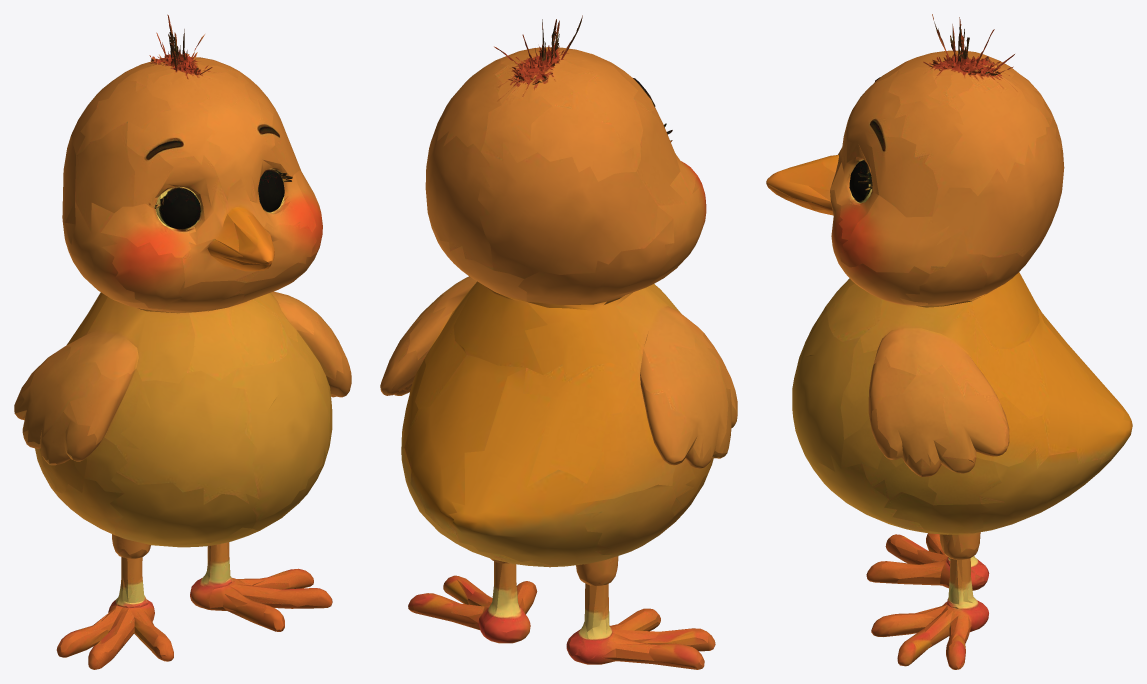
File: peeko.febd9228.glb
3 views of the same model, side by side, from view 1: azimuth 30°, elevation 25°; view 2: azimuth 150°, elevation 25°; view 3: azimuth 270°, elevation 25° (orthographic). The views are drawn at different scales.
Visible parts, largest first — view 1: output_unwrapped; view 2: output_unwrapped; view 3: output_unwrapped.
Boxes of the visible parts, left/top/right/bottom form: output_unwrapped: left=14, top=14, right=351, bottom=669; output_unwrapped: left=380, top=15, right=737, bottom=669; output_unwrapped: left=766, top=14, right=1132, bottom=669.
Size of the model in its own units: 0.9542 by 1.81 by 1.02.
Materials: 1 (1 with a texture image).
